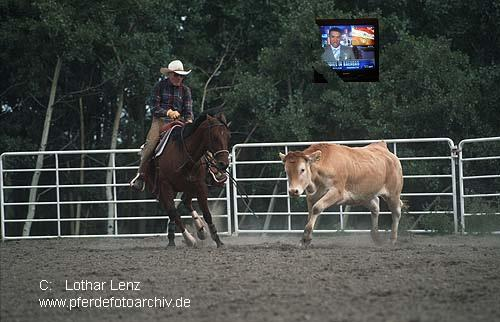tampered: (312, 19, 379, 83)
